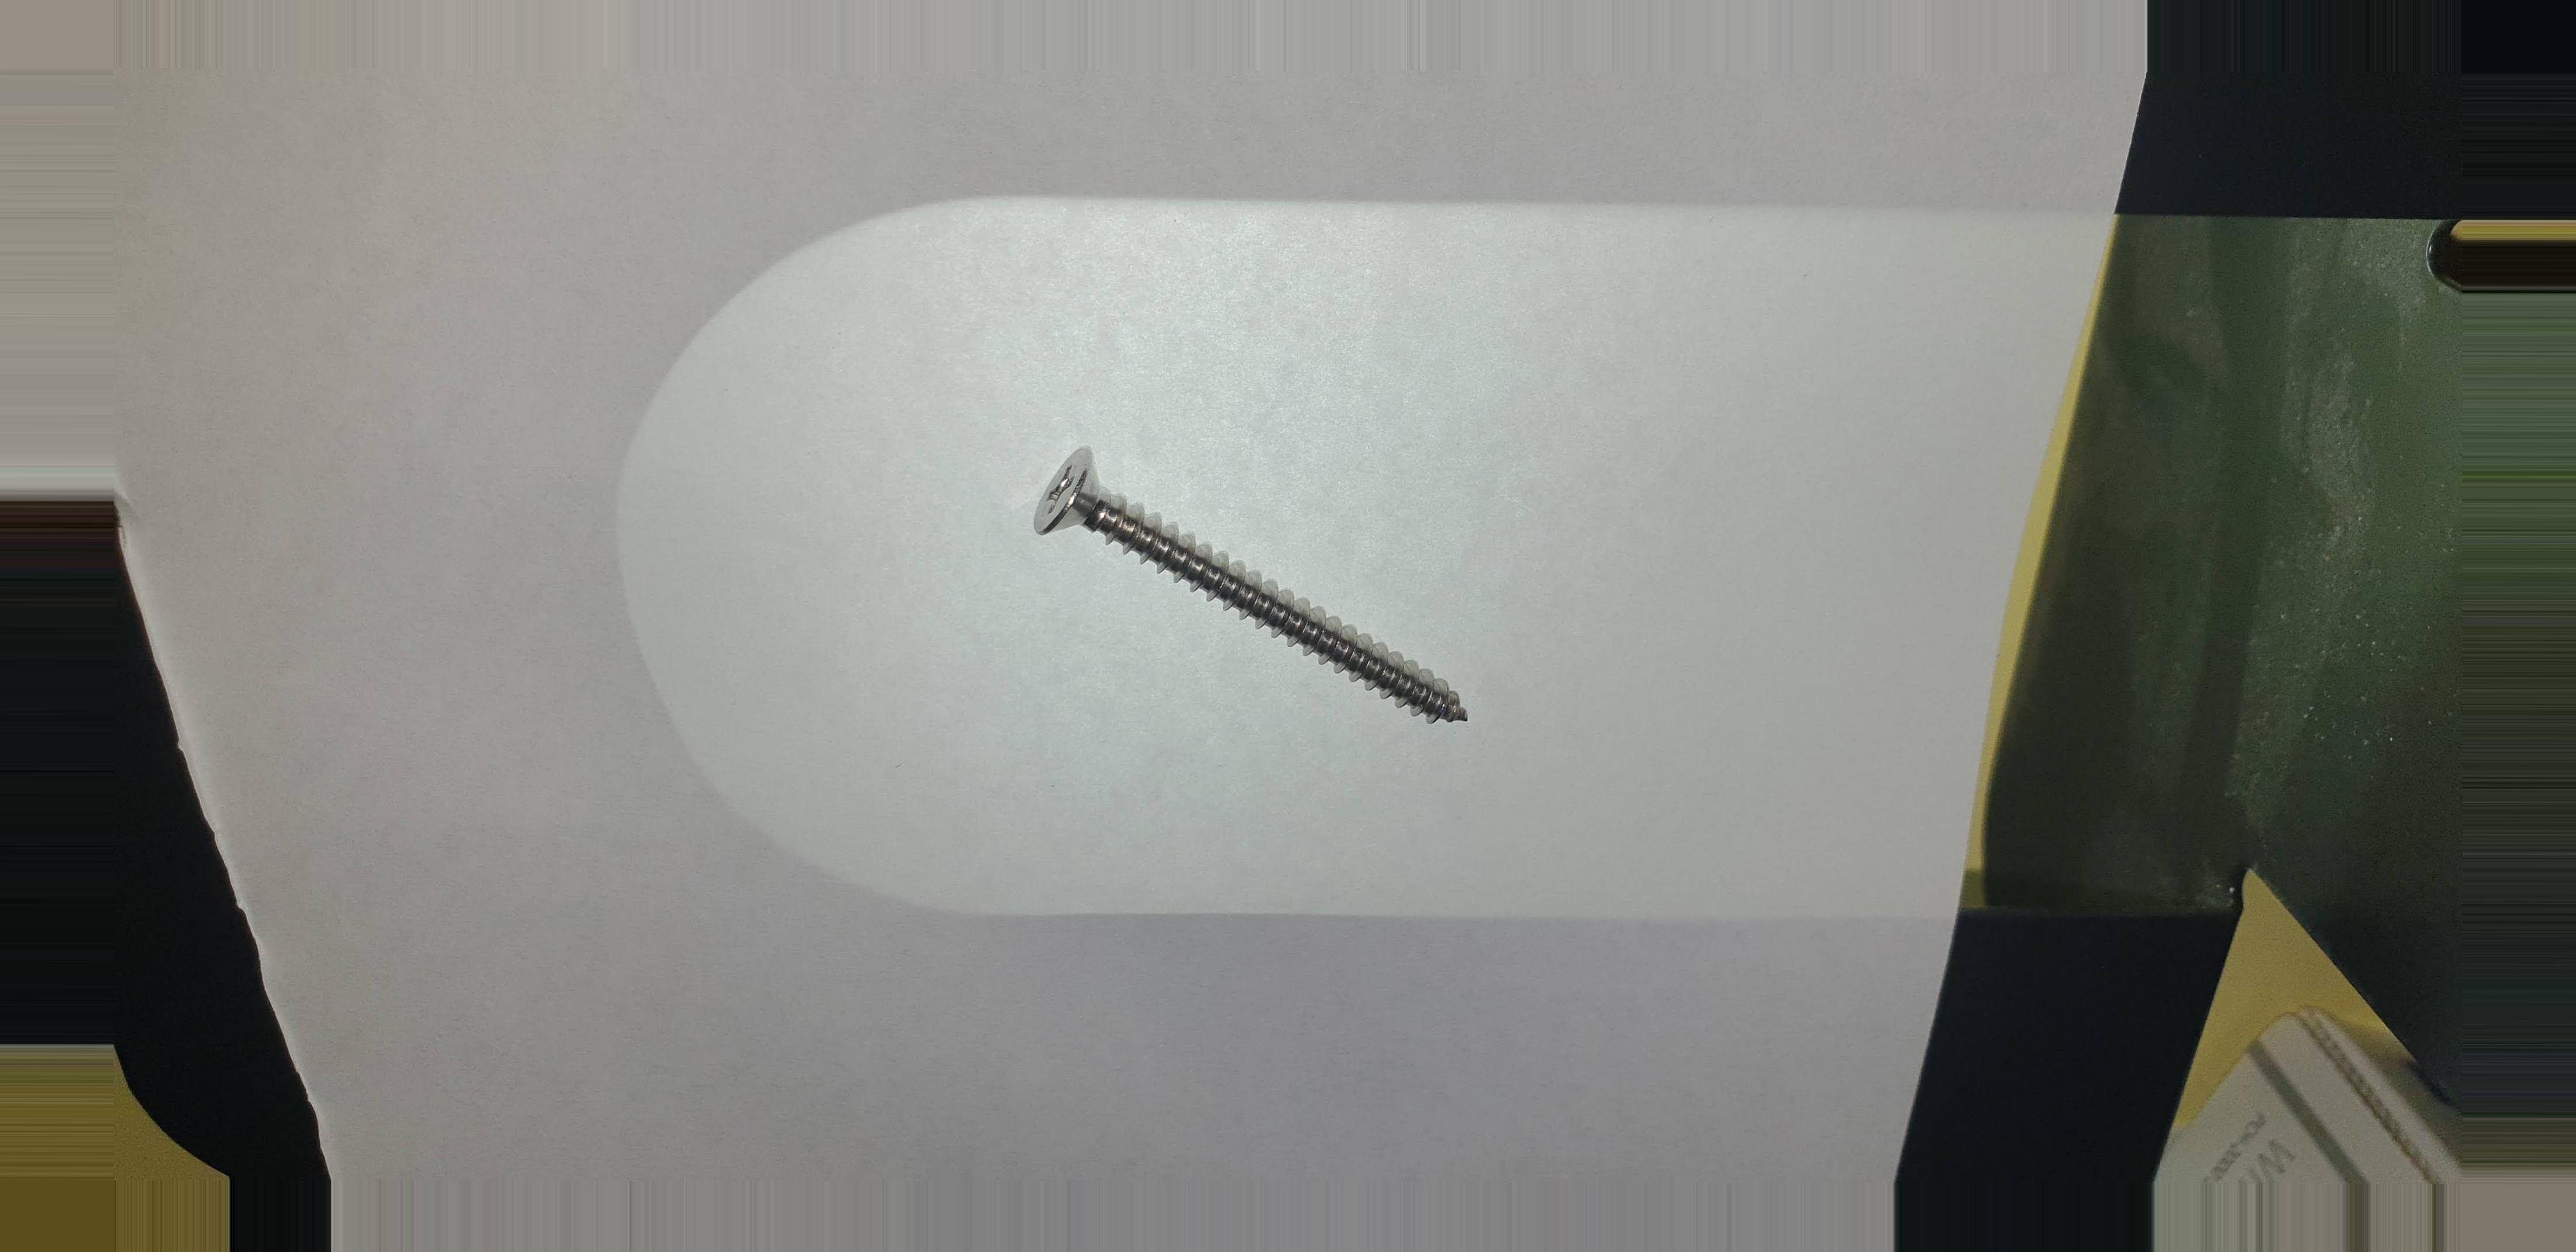fastener: (964, 412, 1554, 794)
